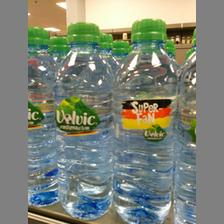Wasser: (111, 18, 178, 222), (50, 21, 114, 219), (26, 26, 58, 206)
